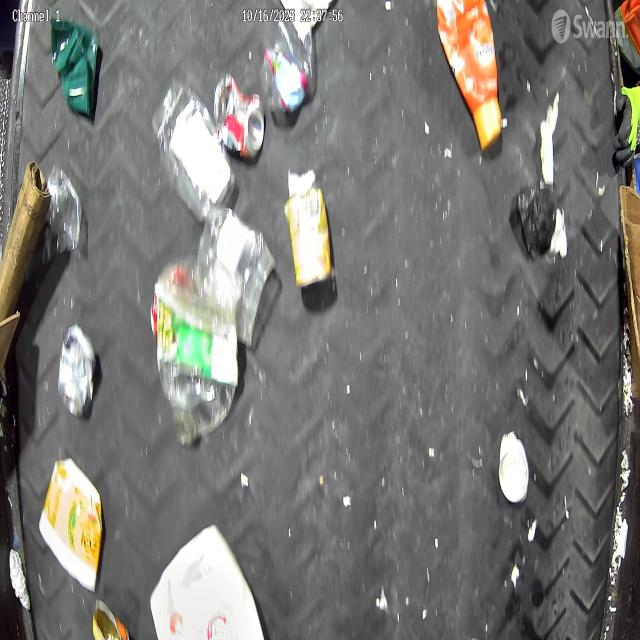can: (286, 184, 333, 290), (213, 71, 264, 163), (57, 322, 98, 420), (498, 431, 531, 506), (91, 598, 130, 640)
milk_jug: (151, 525, 267, 640)
non_white_jug: (437, 0, 501, 150)
plastic_bottle: (156, 253, 238, 443)
